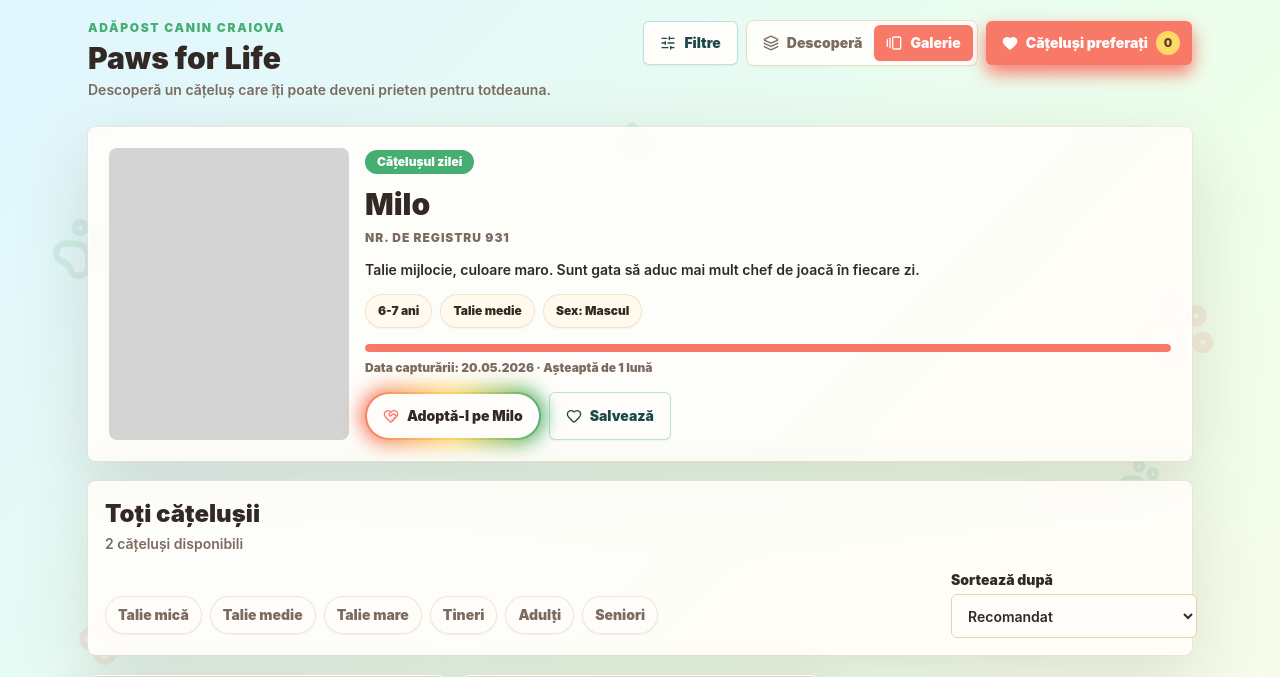
PetDeck › opens advanced filters from the header while in gallery view
What coordinates should you click on to do the following:
click the button "Filtre"
I would click on:
 (691, 43)
Its box is left=643, top=21, right=738, bottom=65.
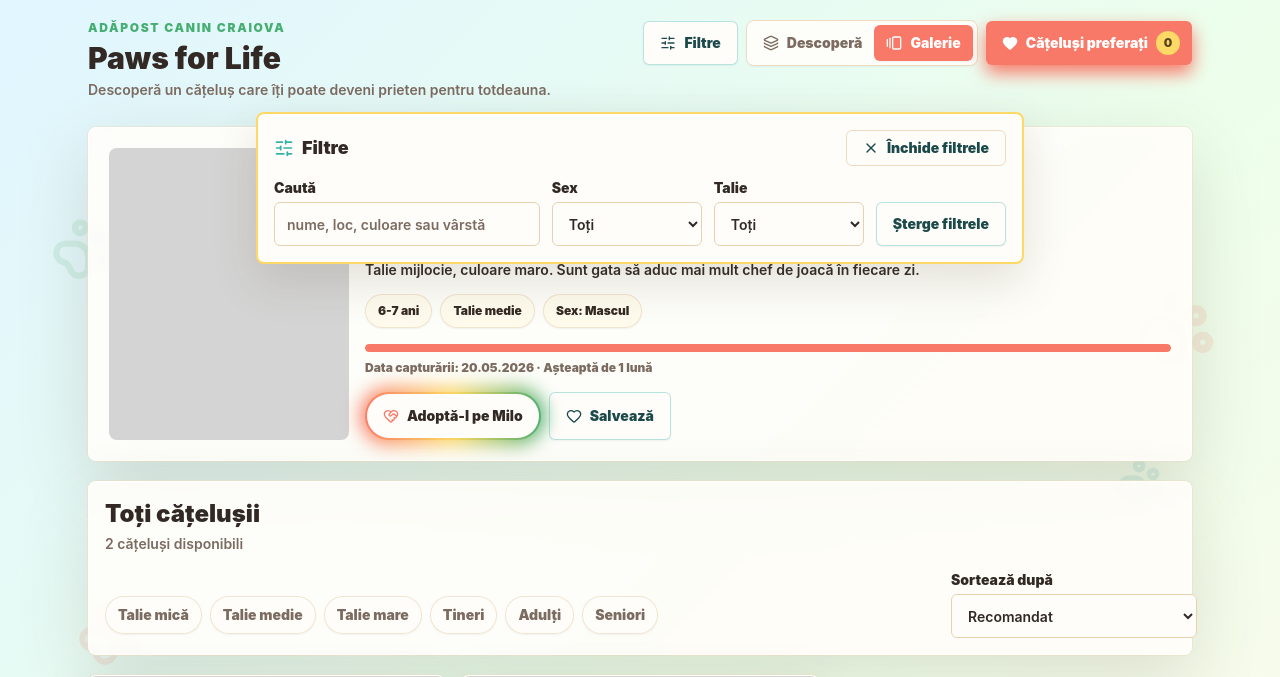
Expected: the field with placeholder "nume, loc, culoare sau vârstă" is shown, left=274, top=202, right=540, bottom=246
